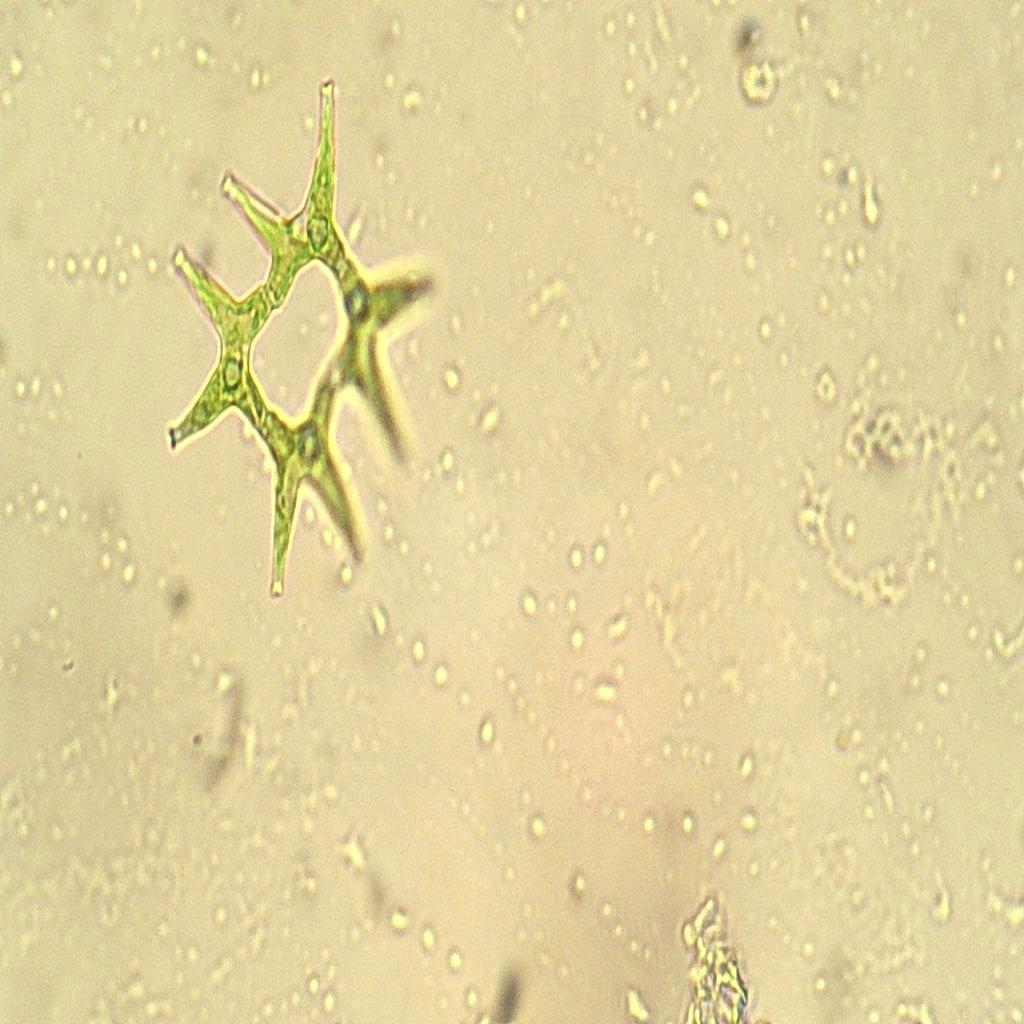Pediastrum_75O: (140, 66, 454, 626)
